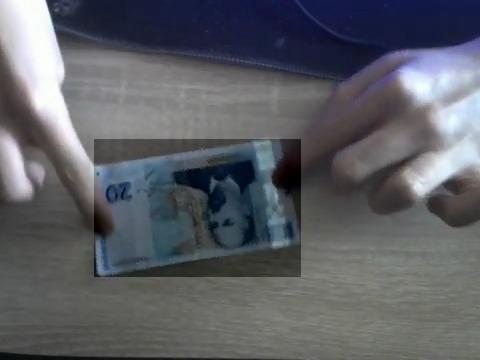20leva: (94, 139, 301, 277)
